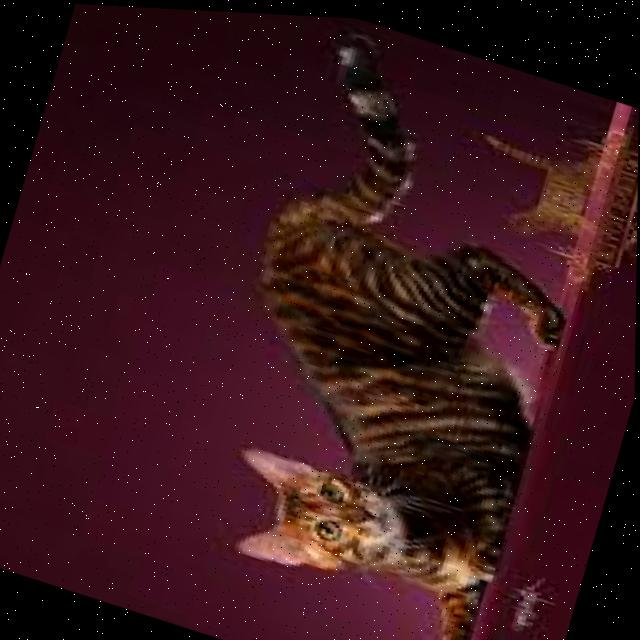Toyger: (157, 10, 635, 640)
